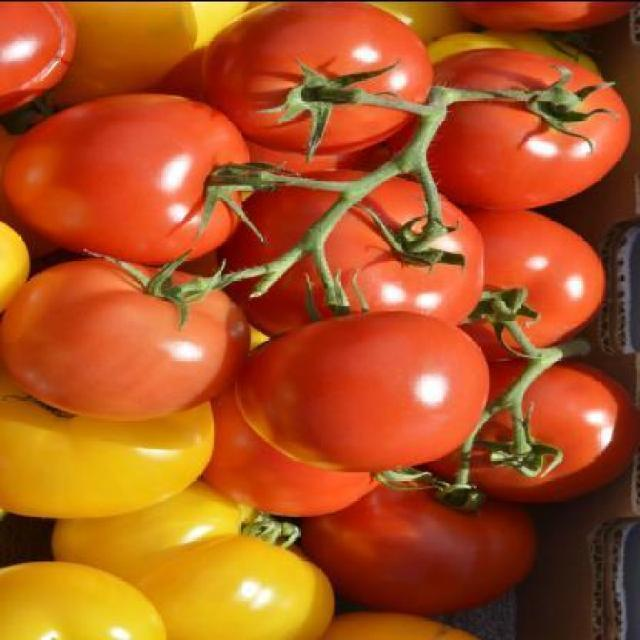Tomato: (216, 160, 493, 336), (6, 93, 280, 262), (241, 305, 493, 478), (0, 253, 256, 422), (388, 46, 636, 208), (198, 0, 438, 160), (298, 470, 544, 622), (424, 343, 638, 504), (2, 376, 210, 521), (49, 475, 300, 591), (45, 2, 262, 112), (200, 387, 382, 516), (452, 206, 606, 356), (130, 530, 336, 639), (1, 564, 167, 640), (0, 89, 60, 262), (0, 1, 85, 116), (426, 26, 604, 76), (438, 2, 638, 30), (321, 610, 487, 639), (363, 1, 469, 44), (1, 216, 32, 318)
